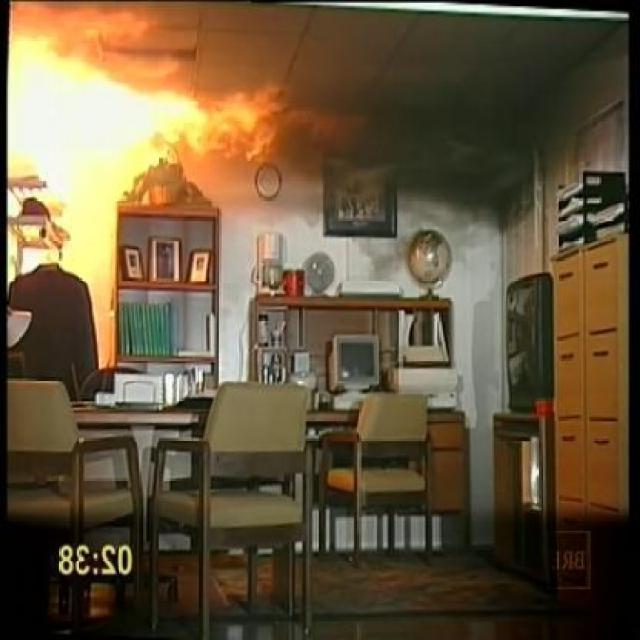fire: (294, 104, 537, 225)
smoke: (7, 38, 238, 160)
